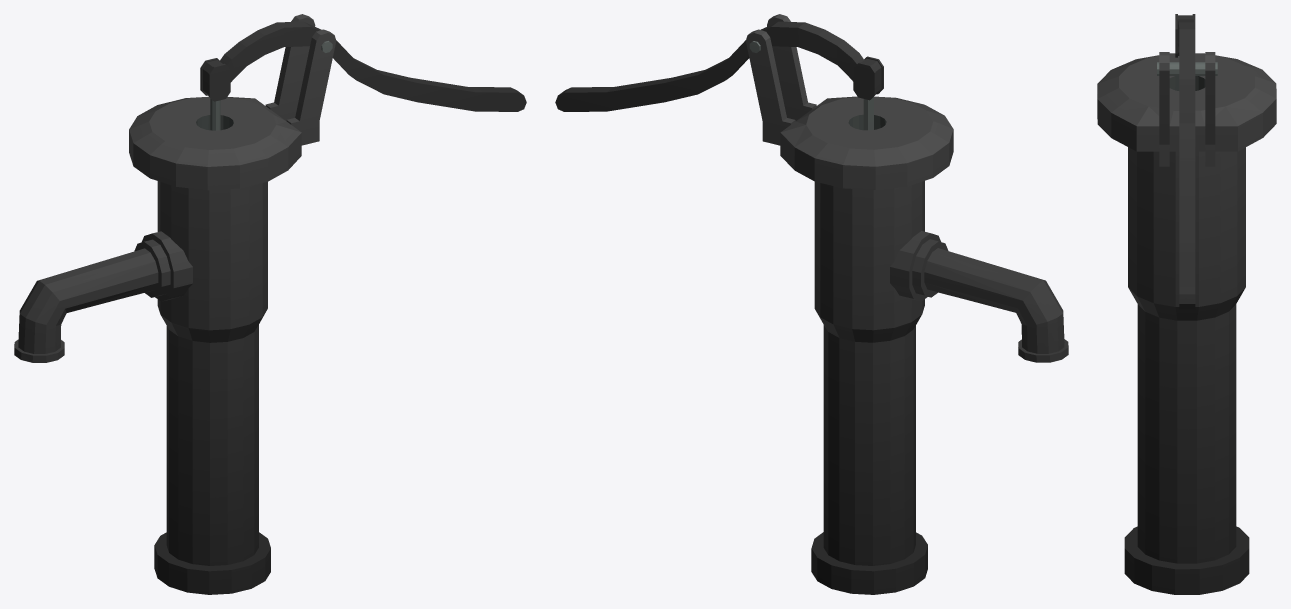
Rendered from Prop_Water_Pump_01.obj.
3 views of the same model, side by side, from view 1: azimuth 30°, elevation 25°; view 2: azimuth 150°, elevation 25°; view 3: azimuth 270°, elevation 25° (orthographic). The views are drawn at different scales.
Visible parts, largest first — view 1: Prop_Water_Pump_01, Prop_Water_Pump_Handle_01; view 2: Prop_Water_Pump_01, Prop_Water_Pump_Handle_01; view 3: Prop_Water_Pump_01, Prop_Water_Pump_Handle_01.
Part boxes in pixels (x1,y1,x2,y2): Prop_Water_Pump_01: (14,14,336,594); Prop_Water_Pump_Handle_01: (200,21,526,111); Prop_Water_Pump_01: (746,14,1068,594); Prop_Water_Pump_Handle_01: (555,21,883,111); Prop_Water_Pump_01: (1097,52,1276,594); Prop_Water_Pump_Handle_01: (1175,14,1195,309).
Bounding box in the file's own units: 1.34 × 1.34 × 0.3789.
Materials: 1 (1 with a texture image).
